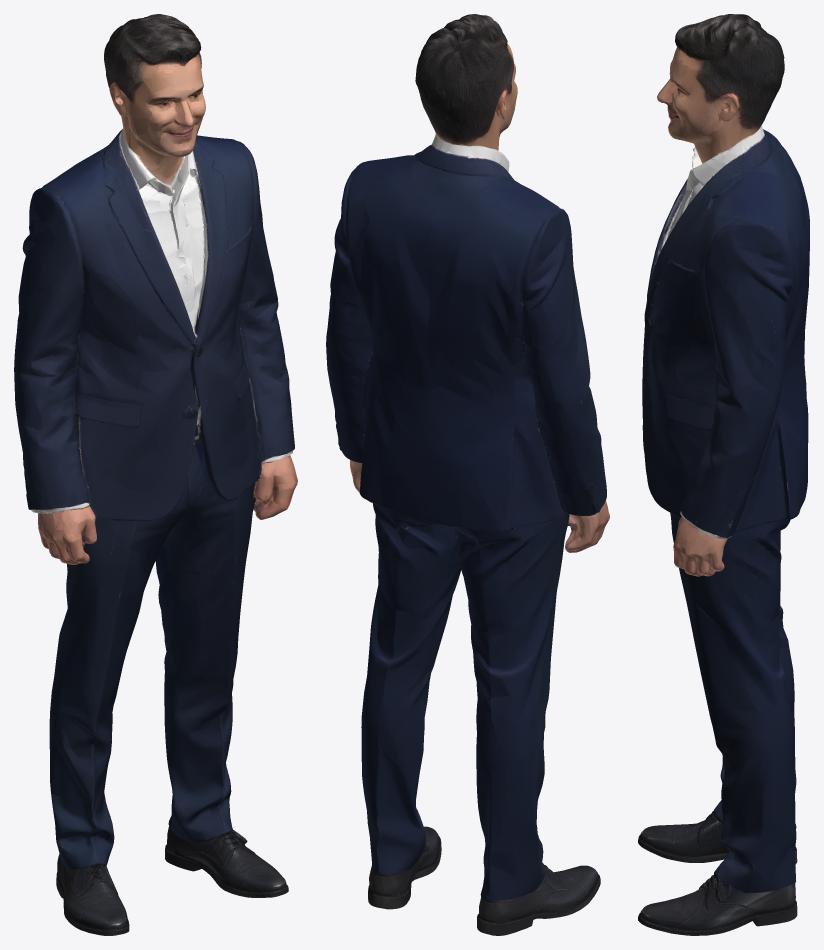
File: manufacturing.glb
3 views of the same model, side by side, from view 1: azimuth 30°, elevation 25°; view 2: azimuth 150°, elevation 25°; view 3: azimuth 270°, elevation 25° (orthographic).
Size of the model in its own units: 0.5953 by 1.9 by 0.3394.
1 material, 1 textured.
